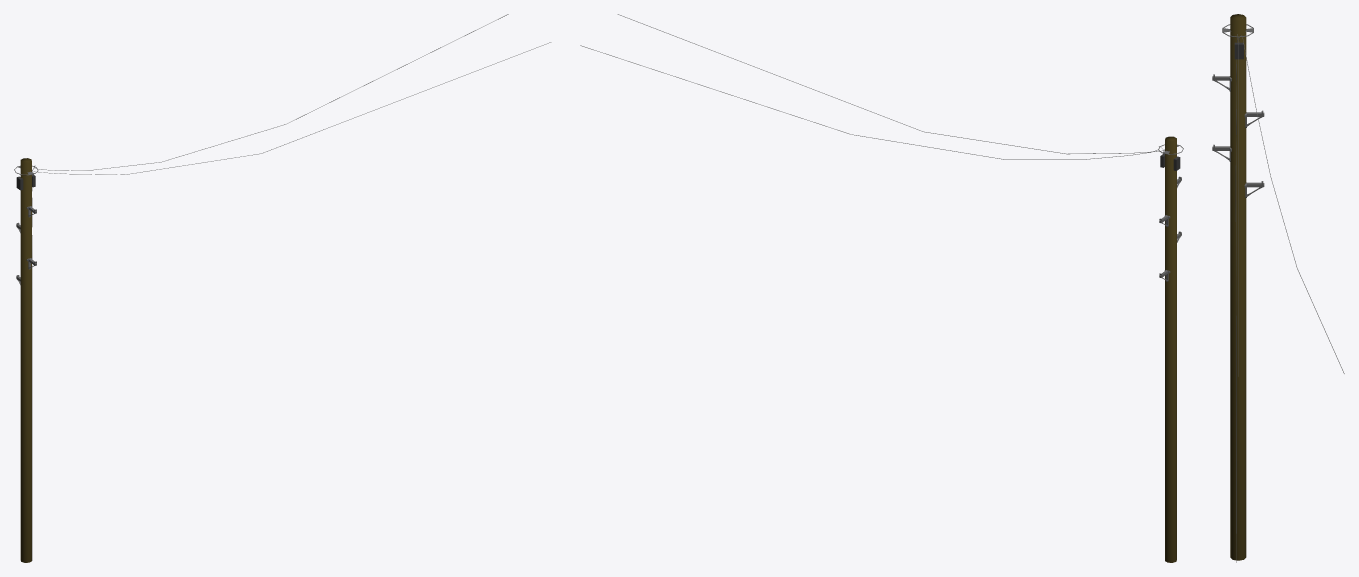
3 renders of one model, left to right at view 1: azimuth 30°, elevation 25°; view 2: azimuth 150°, elevation 25°; view 3: azimuth 270°, elevation 25°, orthographic. The views are drawn at different scales.
Visible parts, largest first — view 1: NurbsPath; view 2: NurbsPath; view 3: NurbsPath.
Boxes of the visible parts, <box> form: NurbsPath: <box>14,14,551,562</box>; NurbsPath: <box>580,14,1183,562</box>; NurbsPath: <box>1212,14,1344,562</box>.
Bounding box in the file's own units: 1365 × 977 × 216.
